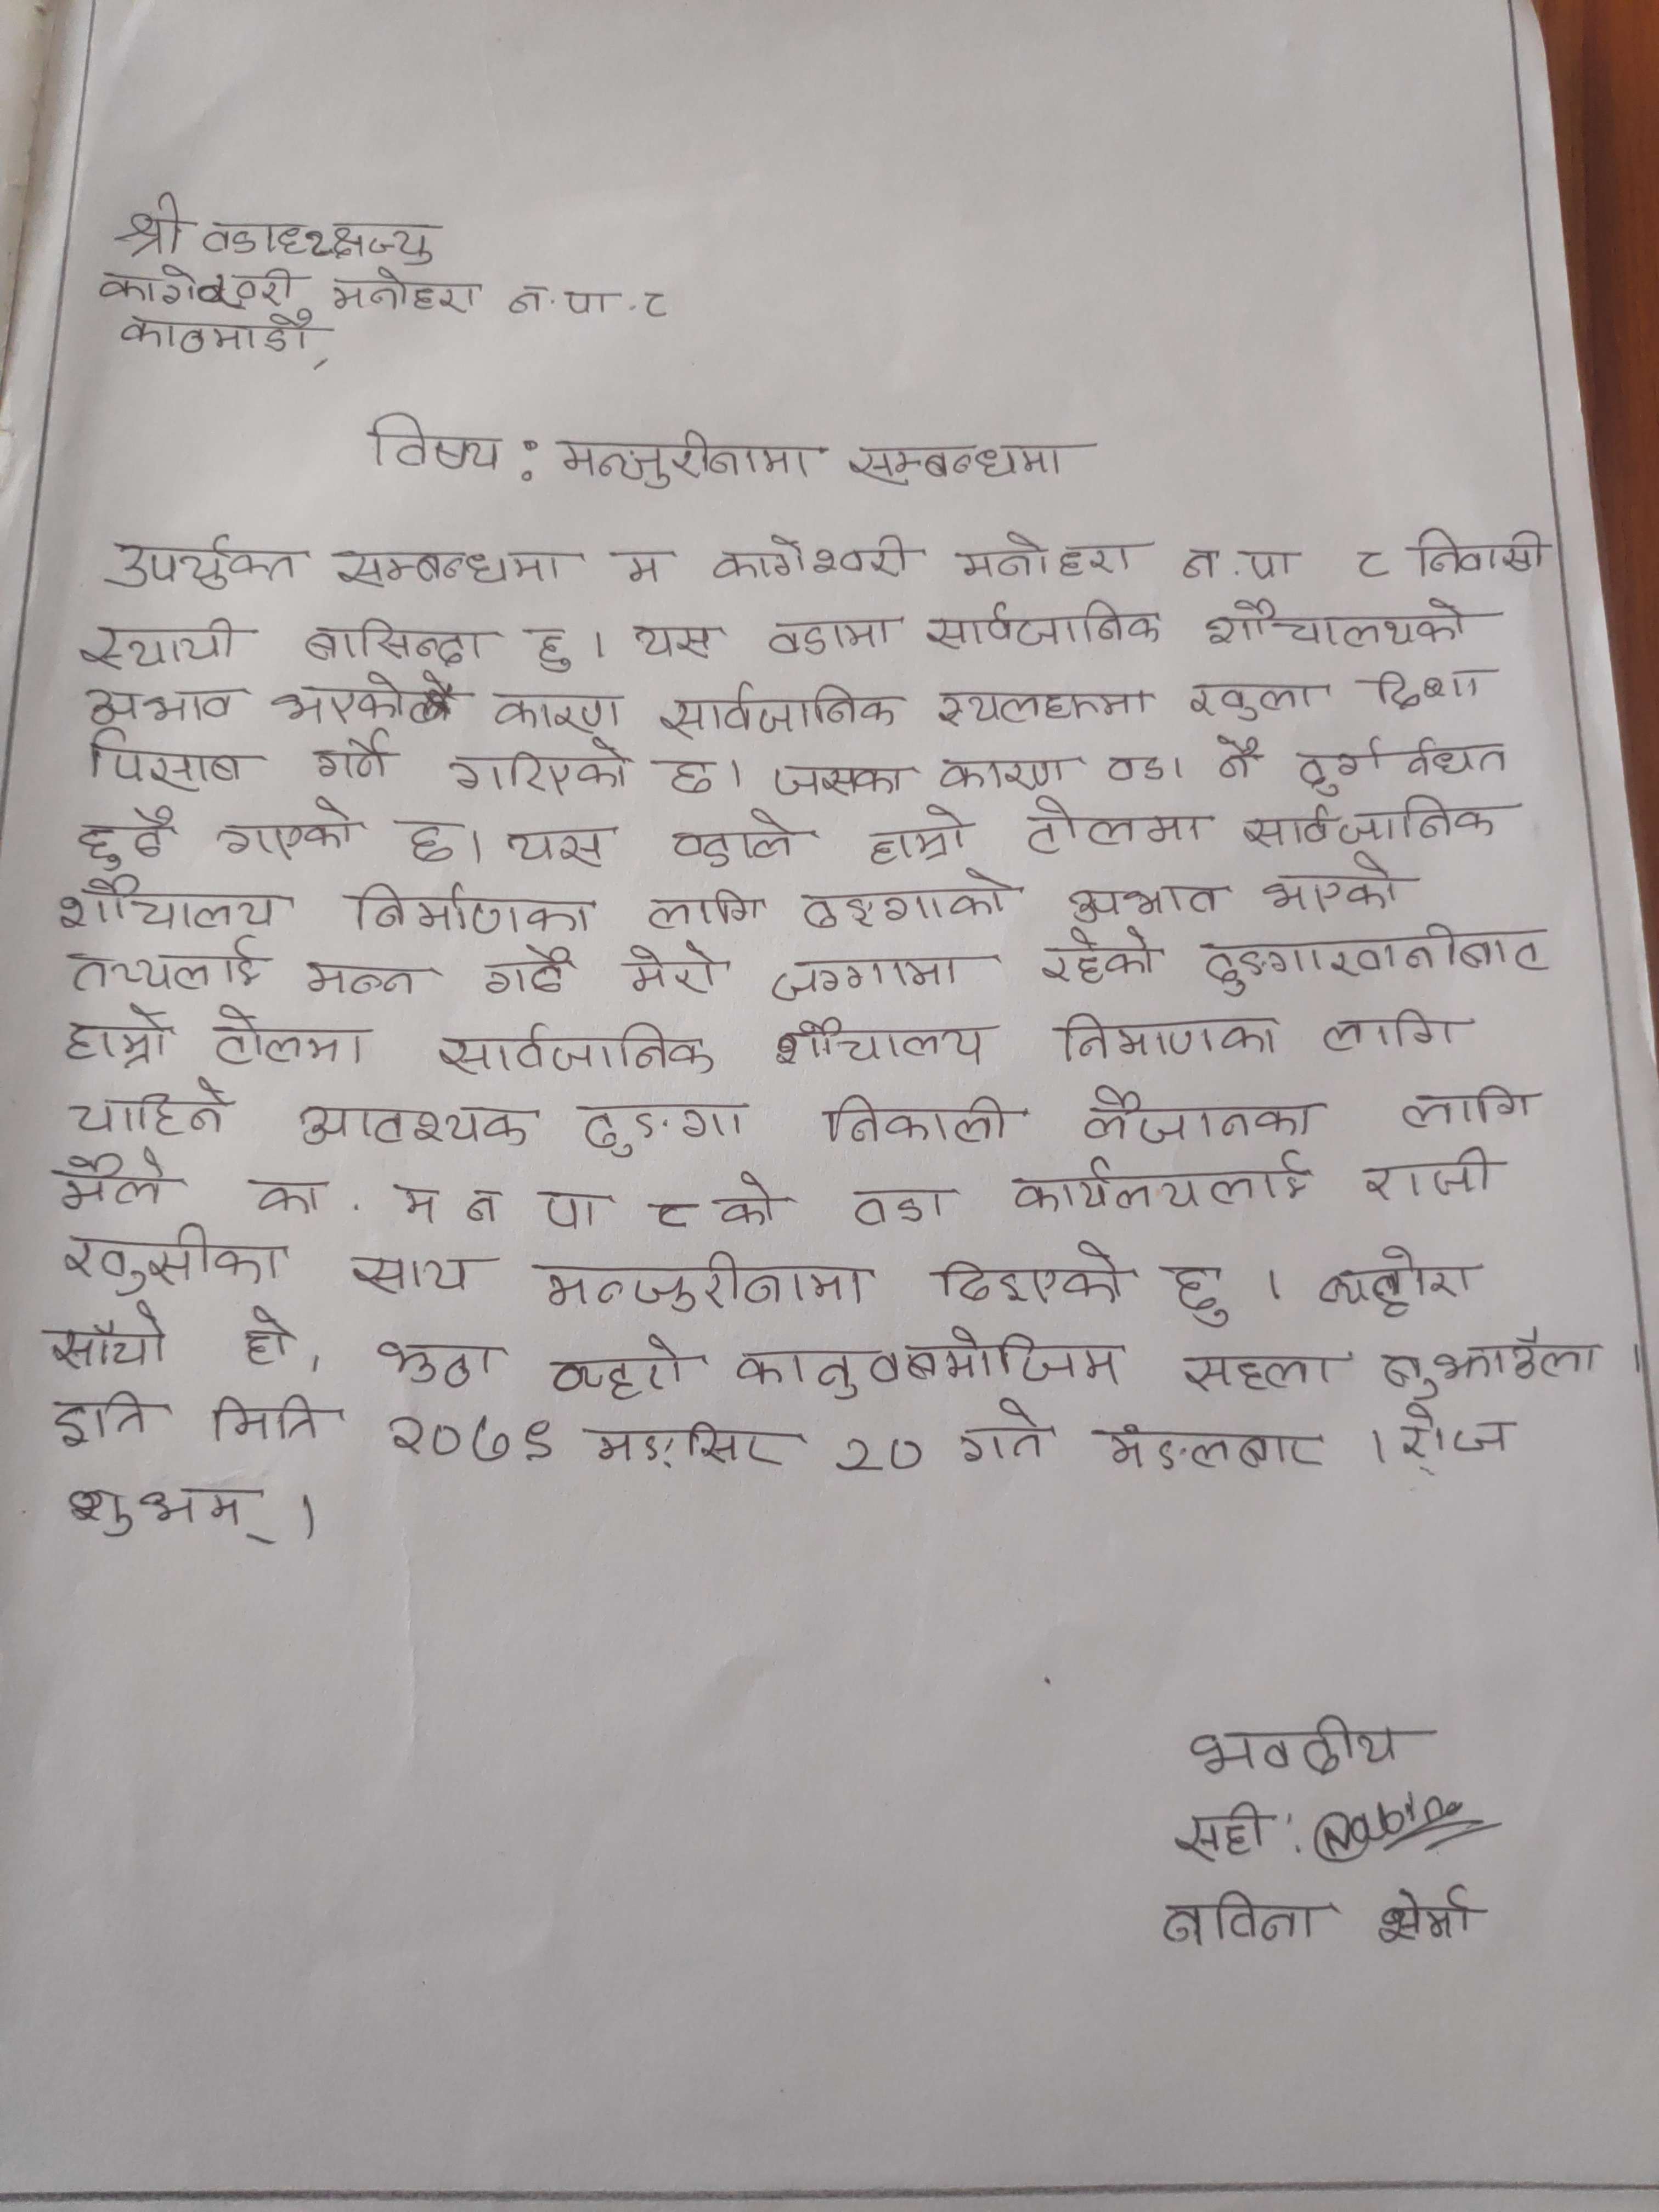text: (728, 1322, 1129, 1399), (1195, 925, 1558, 1001), (523, 1249, 877, 1313), (1004, 1153, 1312, 1219), (551, 423, 826, 489), (429, 1021, 716, 1080), (1077, 1082, 1324, 1150), (63, 1223, 286, 1298), (1373, 1332, 1614, 1400), (655, 676, 903, 740), (1202, 594, 1471, 653), (350, 881, 606, 941), (59, 1479, 282, 1547), (1185, 1710, 1412, 1777), (1298, 730, 1513, 799), (932, 1238, 1131, 1312), (54, 871, 284, 934), (791, 869, 1019, 932), (1243, 794, 1504, 848), (331, 531, 568, 590), (1060, 1005, 1290, 1066), (838, 435, 1087, 491), (1307, 1238, 1478, 1318), (298, 1099, 528, 1157), (924, 597, 1166, 650), (103, 531, 308, 592), (200, 218, 439, 270), (1105, 1425, 1333, 1479), (68, 932, 263, 995), (296, 611, 504, 669), (75, 726, 254, 792), (1025, 799, 1216, 860), (772, 1012, 992, 1064), (267, 667, 460, 726), (211, 1003, 375, 1073), (582, 1418, 786, 1474), (448, 737, 645, 794), (711, 529, 920, 583), (824, 1096, 1018, 1153), (369, 1411, 563, 1468), (545, 1332, 697, 1406), (946, 526, 1143, 582), (765, 951, 962, 1007), (932, 681, 1157, 730), (1154, 1888, 1323, 1952), (71, 611, 251, 671), (70, 1073, 232, 1137), (96, 261, 301, 312), (1255, 850, 1410, 916), (42, 1299, 176, 1374), (117, 305, 315, 355), (573, 1104, 751, 1160), (362, 409, 505, 477), (216, 798, 361, 859), (51, 1146, 169, 1216), (75, 683, 247, 730), (664, 806, 805, 864), (1180, 1346, 1335, 1399), (326, 265, 486, 315), (59, 1000, 173, 1069), (1358, 1143, 1495, 1198), (1039, 928, 1164, 989), (1068, 878, 1223, 927), (1396, 1404, 1523, 1463), (854, 803, 971, 867), (763, 752, 911, 803), (1413, 521, 1549, 575), (70, 801, 178, 869), (45, 1388, 162, 1451), (347, 1249, 483, 1301), (1171, 1797, 1272, 1867), (1399, 1078, 1537, 1129), (1323, 1003, 1464, 1052), (953, 1395, 1054, 1463), (1378, 1883, 1483, 1947), (387, 1179, 509, 1233), (211, 1388, 321, 1447), (488, 685, 631, 730), (755, 617, 899, 660), (373, 1336, 497, 1386), (934, 751, 1075, 794), (647, 880, 765, 930), (615, 941, 716, 998), (1183, 679, 1328, 718), (1363, 665, 1485, 711), (301, 954, 418, 1001), (1164, 1261, 1241, 1332), (502, 280, 619, 326), (479, 941, 568, 1000), (1169, 547, 1304, 585), (835, 1428, 934, 1479), (119, 192, 193, 258), (493, 829, 612, 869), (307, 730, 396, 782), (716, 1169, 788, 1231), (237, 1305, 305, 1367), (852, 1186, 946, 1230), (634, 620, 723, 664), (1101, 745, 1190, 789), (540, 1184, 606, 1237), (1208, 725, 1262, 787), (399, 810, 458, 864), (605, 545, 674, 589), (521, 620, 579, 672), (253, 1176, 331, 1212), (659, 752, 716, 801), (647, 1197, 697, 1238), (1344, 540, 1396, 580), (638, 282, 676, 327)
